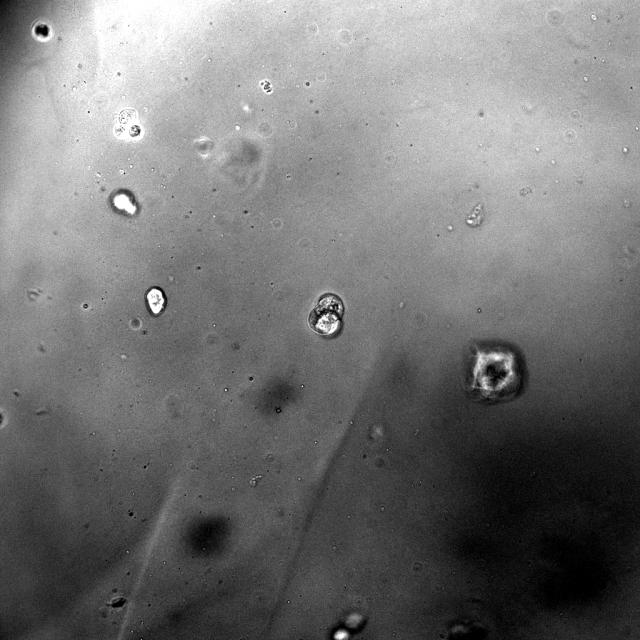organoid: (465, 343, 524, 403), (308, 292, 344, 338), (112, 109, 144, 141), (109, 188, 139, 217), (145, 286, 167, 316), (31, 19, 52, 42)
